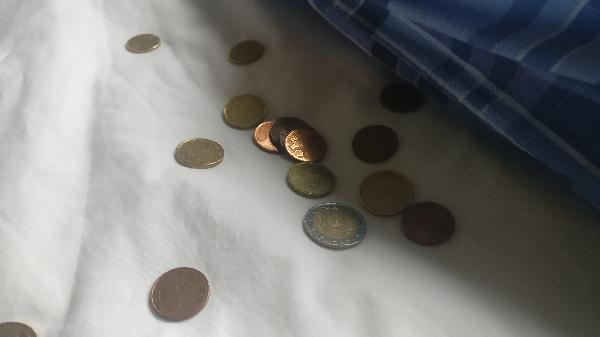Five Cent: (144, 266, 217, 317), (404, 199, 459, 255), (349, 125, 404, 163), (378, 83, 426, 112), (286, 128, 327, 160), (257, 121, 289, 152), (272, 117, 306, 146)
Ten Cent: (287, 163, 334, 198), (126, 34, 164, 55)
Twenty Cent: (360, 175, 412, 211), (224, 93, 268, 130), (174, 136, 224, 167), (229, 40, 268, 69)
Two Euro: (302, 200, 366, 255)
